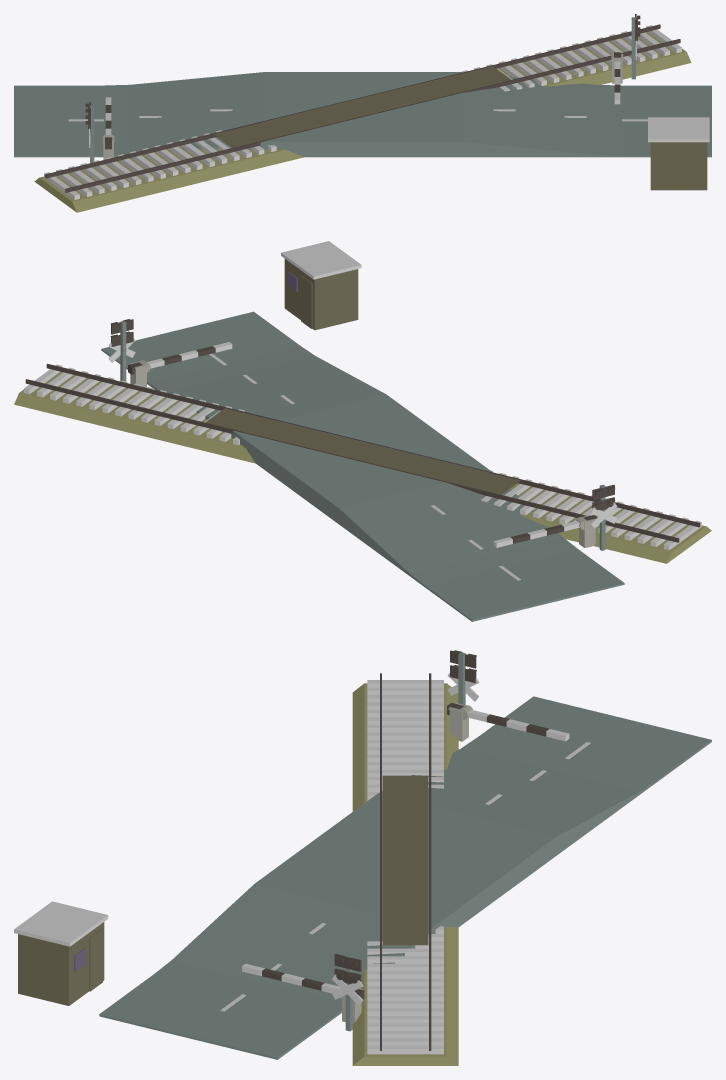
Rendered from SM_PasoNivel_30_v1_FocosDobles_LOD0.fbx.
3 views of the same model, one above another, from view 1: azimuth 30°, elevation 25°; view 2: azimuth 150°, elevation 25°; view 3: azimuth 270°, elevation 25° (orthographic). The views are drawn at different scales.
Visible parts, largest first — view 1: SM_paso_nivel_kit_v16_LOD0, Barrera_1, Barrera_2; view 2: SM_paso_nivel_kit_v16_LOD0, Barrera_1, Barrera_2; view 3: SM_paso_nivel_kit_v16_LOD0, Barrera_2, Barrera_1.
Boxes of the visible parts, <box> form: SM_paso_nivel_kit_v16_LOD0: <box>14,14,711,212</box>; Barrera_1: <box>612,52,621,104</box>; Barrera_2: <box>104,97,113,149</box>; SM_paso_nivel_kit_v16_LOD0: <box>14,241,711,621</box>; Barrera_1: <box>128,342,232,374</box>; Barrera_2: <box>493,515,597,547</box>; SM_paso_nivel_kit_v16_LOD0: <box>14,650,711,1065</box>; Barrera_2: <box>447,703,569,741</box>; Barrera_1: <box>242,963,364,999</box>.
Size of the model in its own units: 30 by 2.8 by 23.71.
